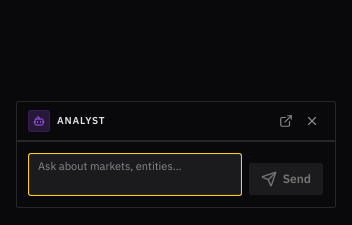
Scenario: AskAiPanel — P2B-1 citation rendering › renders a Sources section when response contains a Sources block
Type "Source test" into the text box with placeholder "Ask about markets, entities…" at (135, 175), box [29,154,241,195]
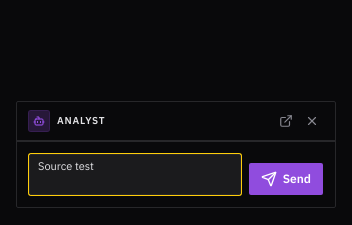
Click the button with aria-label "send message" at (286, 179), box [249,163,323,195]
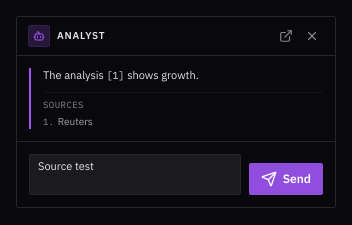
Expected: the text "Sources" is shown, [43,99,84,110]
Expected: the text "Reuters" is shown, [58,115,93,129]
